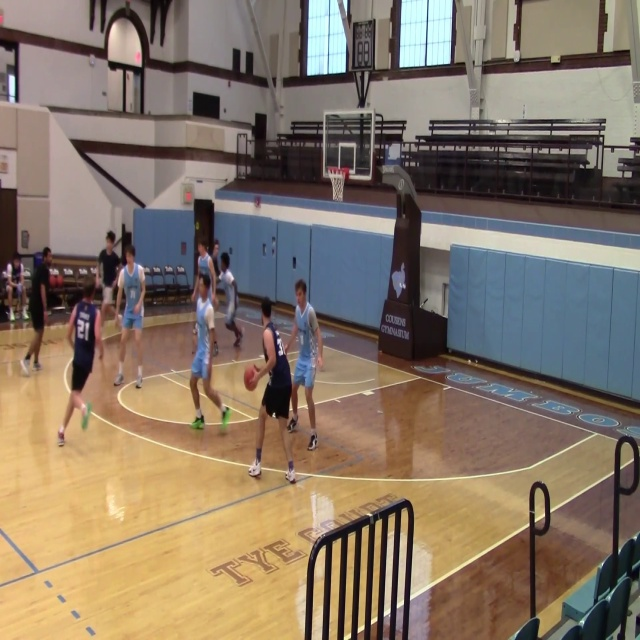Basketball: (243, 364, 259, 391)
